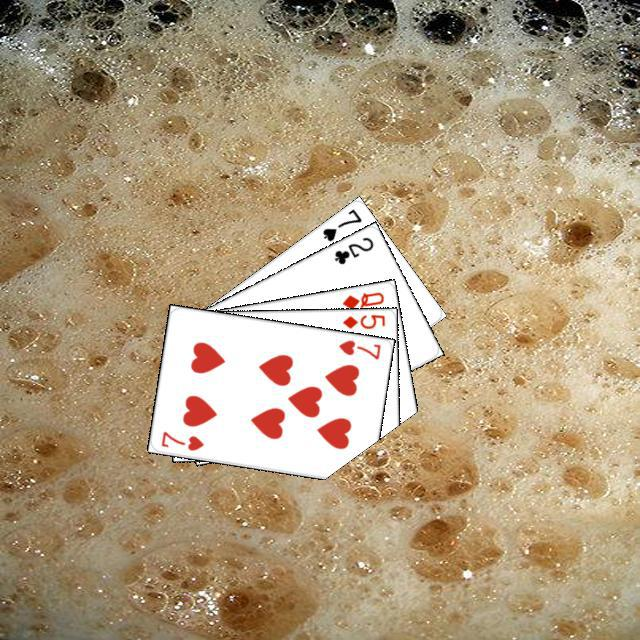2c: (329, 232, 375, 266)
5d: (338, 310, 387, 331)
7h: (156, 426, 205, 452), (334, 335, 382, 361)
7s: (317, 204, 363, 243)
Qd: (337, 287, 386, 311)
